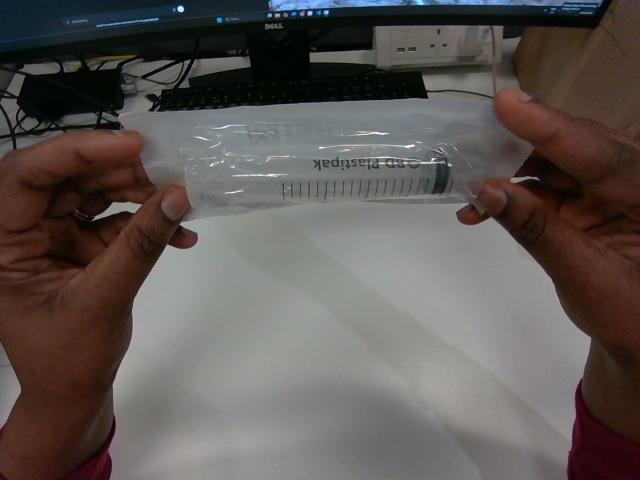syringe: (120, 99, 530, 217)
